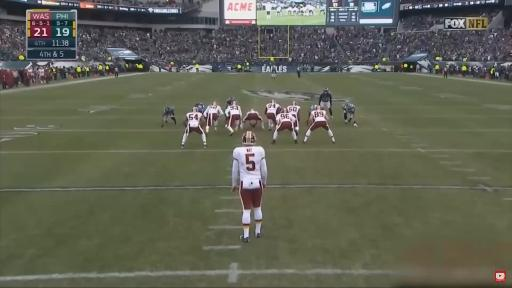Helmet: (242, 131, 256, 145), (281, 108, 289, 113), (316, 105, 321, 110), (192, 107, 197, 112), (232, 101, 237, 105), (292, 101, 296, 105), (324, 88, 328, 92), (212, 102, 217, 105), (250, 109, 254, 112), (271, 100, 275, 103)
Jersey: (232, 146, 267, 186), (186, 112, 202, 127), (203, 105, 223, 116), (277, 113, 295, 123), (311, 110, 327, 121), (266, 103, 280, 114), (226, 105, 241, 115), (287, 106, 300, 117), (320, 92, 331, 102), (344, 103, 355, 113), (195, 103, 205, 113), (163, 107, 174, 116), (247, 110, 259, 116), (226, 98, 234, 107), (309, 105, 317, 114), (271, 66, 276, 73)
Player: (232, 131, 267, 242), (304, 108, 335, 143), (182, 107, 207, 147), (272, 110, 297, 144), (204, 102, 223, 134), (225, 102, 241, 135), (265, 100, 281, 130), (243, 109, 264, 128), (319, 88, 332, 117), (287, 102, 300, 131), (343, 103, 357, 126), (162, 106, 176, 127), (307, 105, 319, 125), (225, 98, 235, 110), (195, 103, 205, 113), (226, 98, 235, 108), (271, 65, 277, 78)
